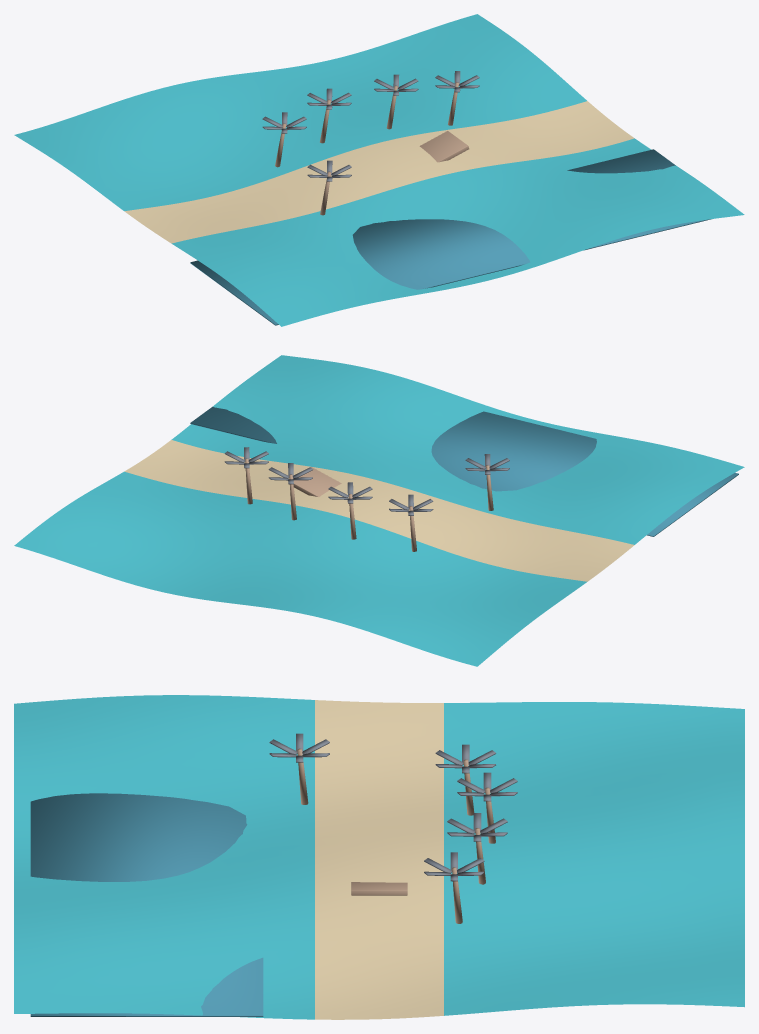
Rendered from chapter_04_dunes.glb.
The picture shows the model from 3 angles, top to bottom: view 1: azimuth 30°, elevation 25°; view 2: azimuth 150°, elevation 25°; view 3: azimuth 270°, elevation 25°; orthographic projection. The views are drawn at different scales.
Parts seen in each view (by area): view 1: Chapter_Environment; view 2: Chapter_Environment; view 3: Chapter_Environment.
Boxes of the visible parts, left/top/right/bottom form: Chapter_Environment: left=14, top=14, right=744, bottom=326; Chapter_Environment: left=14, top=355, right=744, bottom=666; Chapter_Environment: left=14, top=695, right=744, bottom=1019.
Bounding box in the file's own units: 44 × 5.01 × 44.
